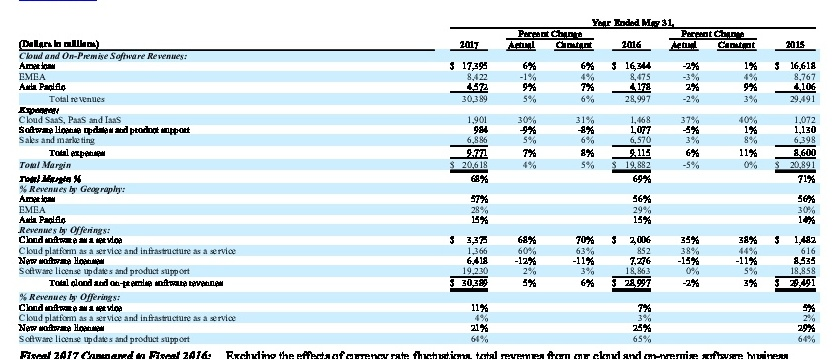table: (0, 0, 837, 359)
